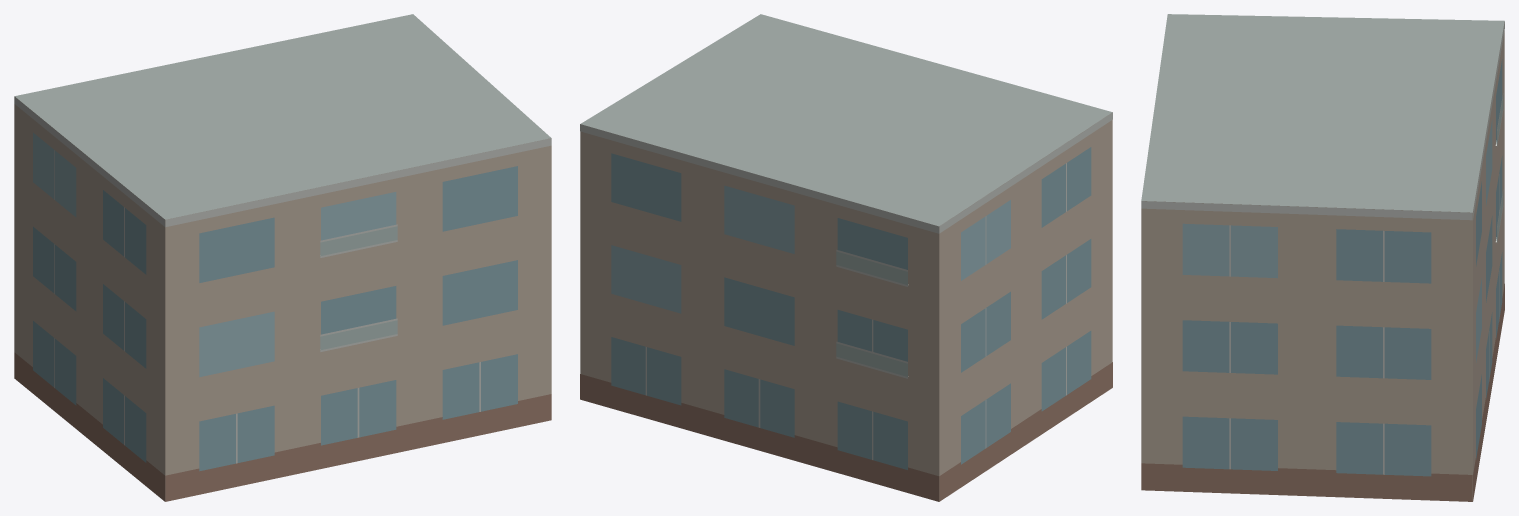
The model's file is survey-upis-32542052.glb.
3 renders of one model, left to right at view 1: azimuth 30°, elevation 25°; view 2: azimuth 150°, elevation 25°; view 3: azimuth 270°, elevation 25°, orthographic. The views are drawn at different scales.
Visible parts, largest first — view 1: survey-upis-32542052.tmp; view 2: survey-upis-32542052.tmp; view 3: survey-upis-32542052.tmp.
Boxes of the visible parts, x1=… form: survey-upis-32542052.tmp: x1=14, y1=14, x2=551, y2=501; survey-upis-32542052.tmp: x1=580, y1=14, x2=1112, y2=501; survey-upis-32542052.tmp: x1=1141, y1=14, x2=1504, y2=501.
Bounding box in the file's own units: 13.48 × 9.15 × 10.43.
